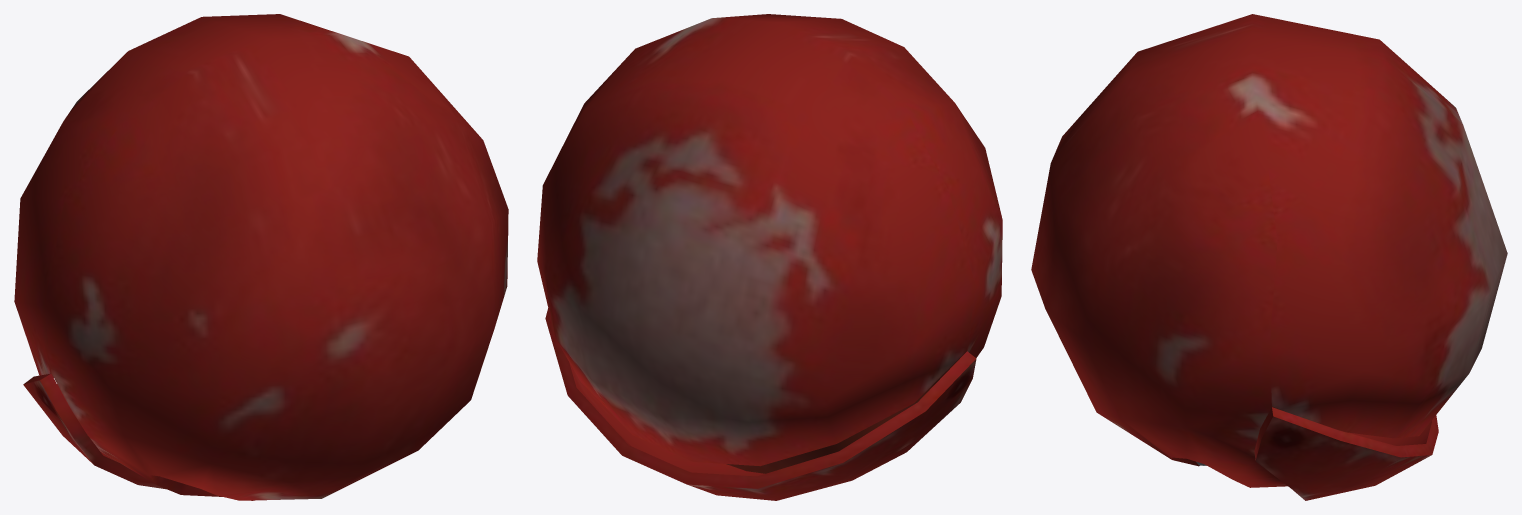
The model's file is murphy_shift.obj.
The picture shows the model from 3 angles, left to right: view 1: azimuth 30°, elevation 25°; view 2: azimuth 150°, elevation 25°; view 3: azimuth 270°, elevation 25°; orthographic projection. The views are drawn at different scales.
Parts seen in each view (by area): view 1: Object01, Object02; view 2: Object01, Object02; view 3: Object01, Object02.
Boxes of the visible parts, x1,y1,x2,y2 form: Object01: (14, 14, 508, 500); Object02: (23, 373, 166, 489); Object01: (537, 14, 1002, 473); Object02: (545, 308, 976, 500); Object01: (1031, 14, 1507, 487); Object02: (1254, 407, 1438, 500).
Bounding box in the file's own units: 20.08 × 20.3 × 19.83.
Materials: 1 (1 with a texture image).
